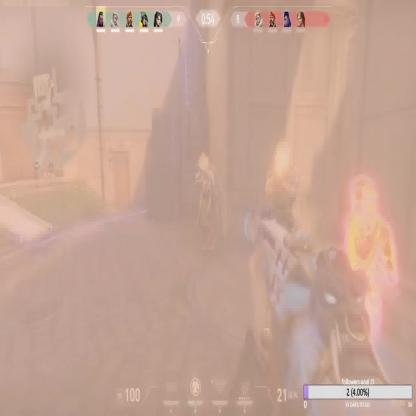enemy: (342, 174, 397, 378), (266, 141, 301, 275), (195, 152, 215, 230)
enemy_head: (351, 178, 377, 221), (274, 143, 293, 177), (199, 154, 208, 169)
